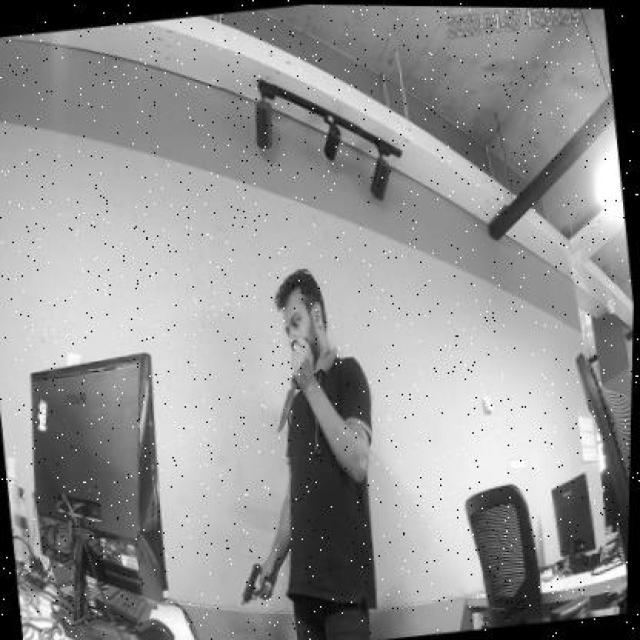weapon: (240, 562, 274, 604)
